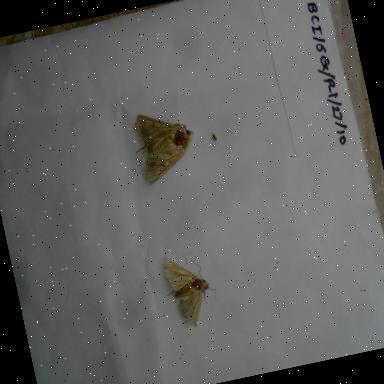abw: (125, 100, 206, 190), (154, 244, 228, 338)
